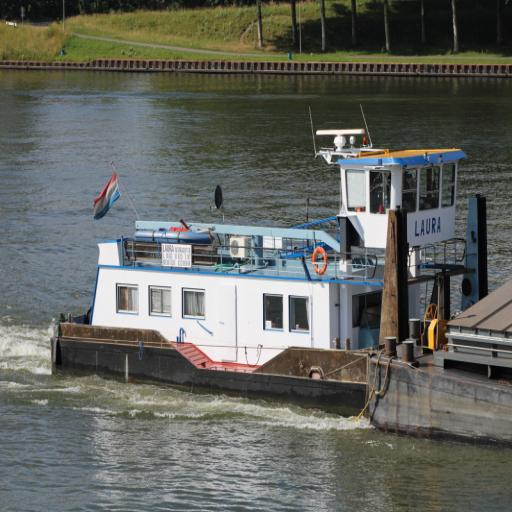tugboat: (45, 103, 498, 429)
